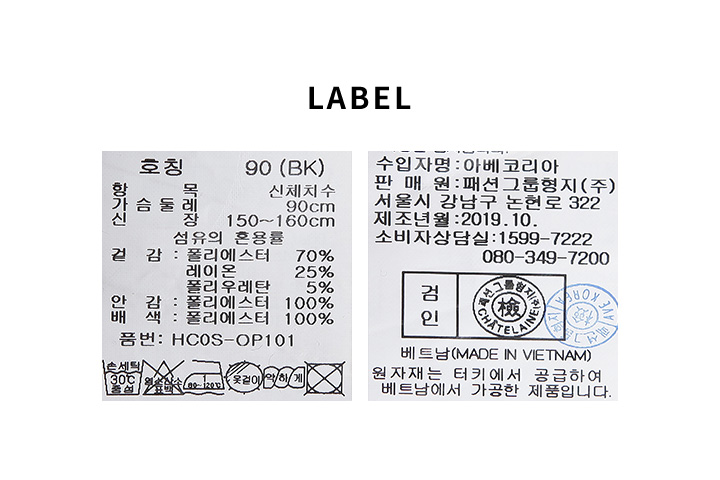KR_gentle_wring: (263, 362, 306, 389)
KR_hand_wash_30_neutral: (102, 354, 143, 399)
KR_hang_dry_in_shade: (223, 360, 263, 394)
KR_iron_low_temp_with_cloth: (183, 357, 224, 397)
KR_no_bleach: (143, 357, 185, 398)
KR_no_tumble_dry: (305, 359, 344, 398)
